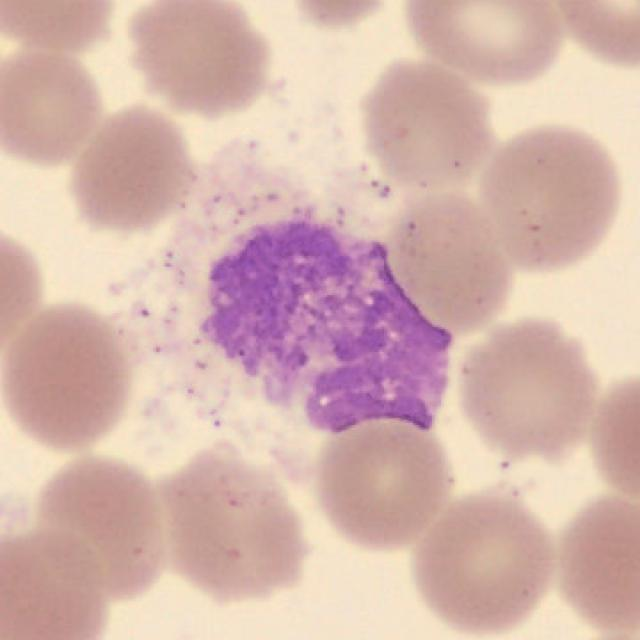Restos celulares: (165, 206, 453, 436)
